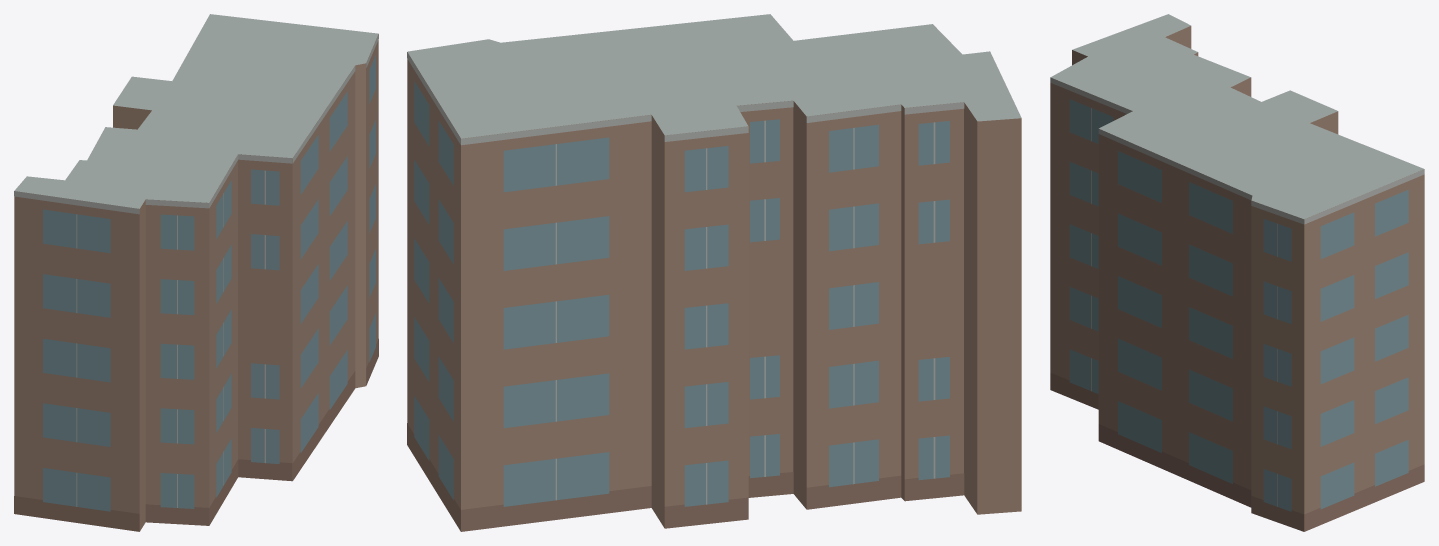
The model's file is survey-upis-32688215.glb.
3 views of the same model, side by side, from view 1: azimuth 30°, elevation 25°; view 2: azimuth 150°, elevation 25°; view 3: azimuth 270°, elevation 25° (orthographic). The views are drawn at different scales.
Visible parts, largest first — view 1: survey-upis-32688215.tmp; view 2: survey-upis-32688215.tmp; view 3: survey-upis-32688215.tmp.
Part boxes in pixels (bbox=[...]): survey-upis-32688215.tmp: bbox=[14, 14, 378, 531]; survey-upis-32688215.tmp: bbox=[407, 14, 1021, 531]; survey-upis-32688215.tmp: bbox=[1050, 14, 1424, 531].
Size of the model in its own units: 20.29 by 14.4 by 15.63.
